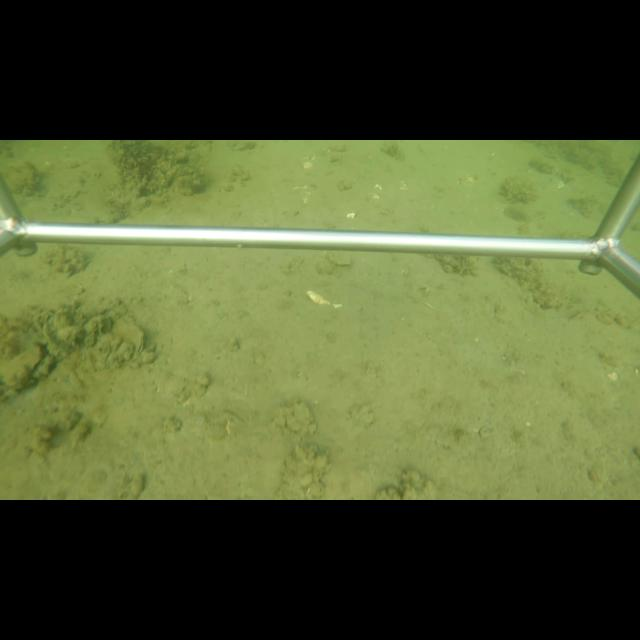Oyster-Closed: (86, 314, 146, 370), (42, 308, 79, 356)
